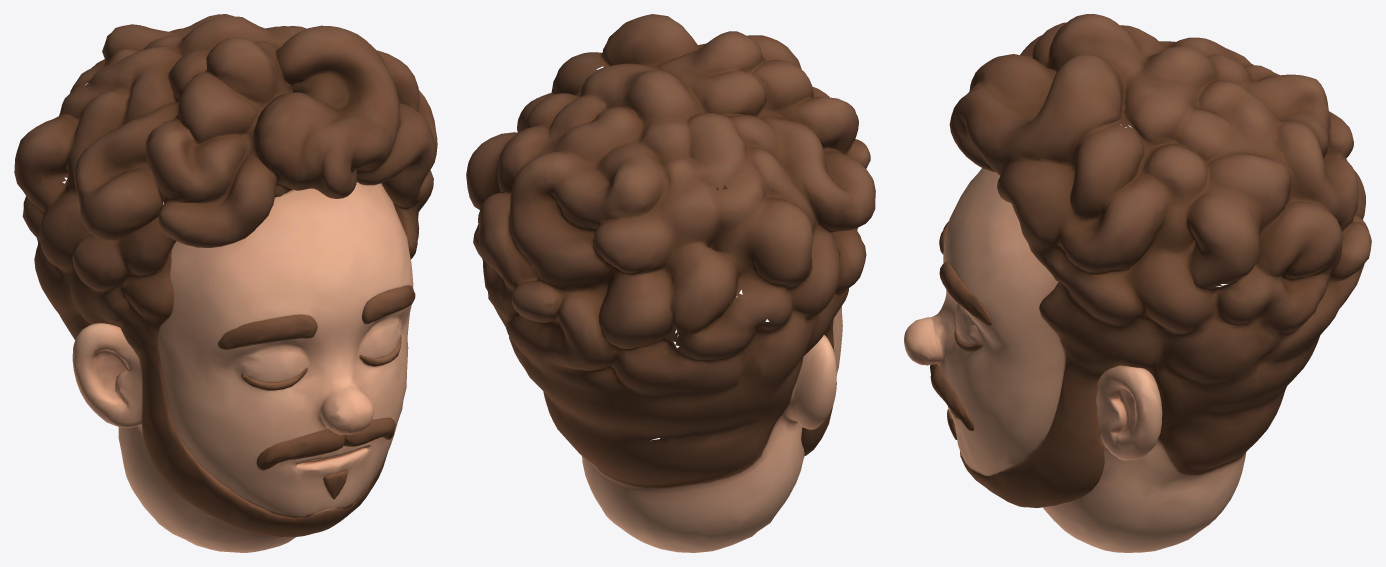
The model's file is omar-meshy-toy.glb.
3 views of the same model, side by side, from view 1: azimuth 30°, elevation 25°; view 2: azimuth 150°, elevation 25°; view 3: azimuth 270°, elevation 25° (orthographic). The views are drawn at different scales.
Visible parts, largest first — view 1: OmarHead; view 2: OmarHead; view 3: OmarHead.
Part boxes in pixels (x1,y1,x2,y2): OmarHead: (14,14,437,552); OmarHead: (466,14,875,552); OmarHead: (904,14,1371,552).
Bounding box in the file's own units: 5.25 × 7.3 × 6.01.
Materials: 1 (1 with a texture image).
